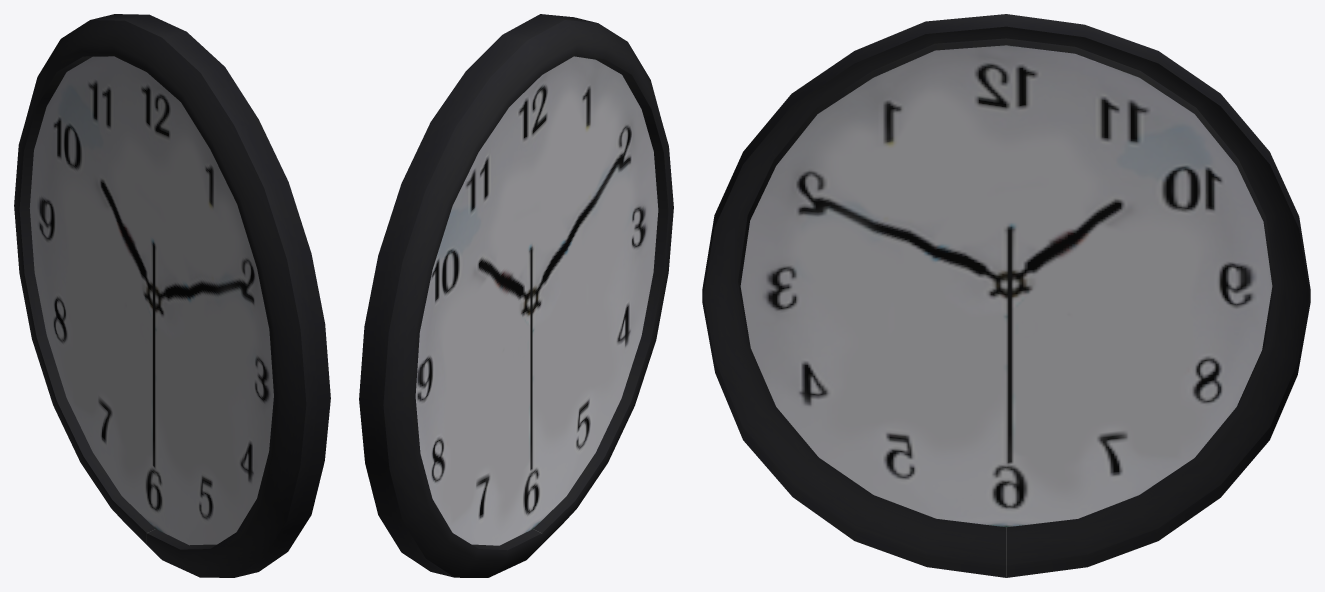
File: BianLiDian_01_zhong_01.FBX
3 renders of one model, left to right at view 1: azimuth 30°, elevation 25°; view 2: azimuth 150°, elevation 25°; view 3: azimuth 270°, elevation 25°, orthographic. The views are drawn at different scales.
Parts seen in each view (by area): view 1: BianLiDian_01_zhong_01; view 2: BianLiDian_01_zhong_01; view 3: BianLiDian_01_zhong_01.
Boxes of the visible parts, <box> form: BianLiDian_01_zhong_01: <box>14,14,330,577</box>; BianLiDian_01_zhong_01: <box>359,14,673,577</box>; BianLiDian_01_zhong_01: <box>702,14,1310,577</box>.
Bounding box in the file's own units: 17.59 × 220 × 220.
